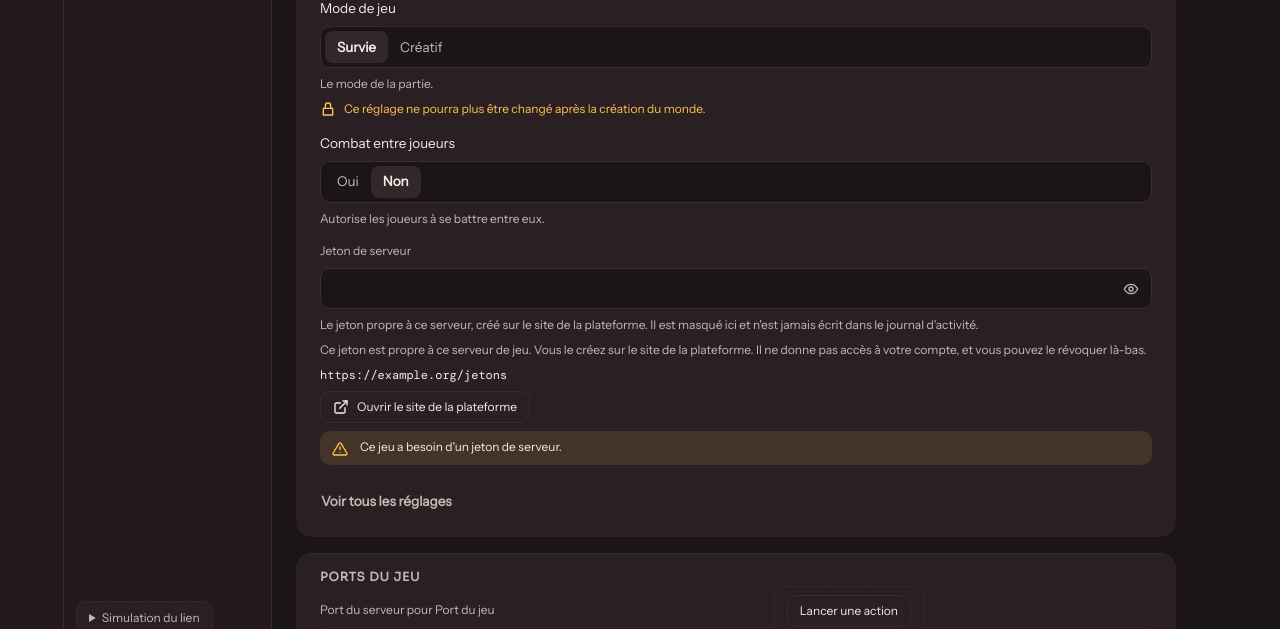
Scenario: l'étape « Ressources » (BR-FICHE-020 à 023, BR-RES-037) › dit en chiffres ce qui reste de mémoire quand la machine est assez grande mais déjà engagée
(page scrolled)
Type "jeton-du-serveur" into the password field labelled "Jeton de serveur" at (716, 289), box [321,269,1111,308]
Wait 450 ms
(page scrolled)
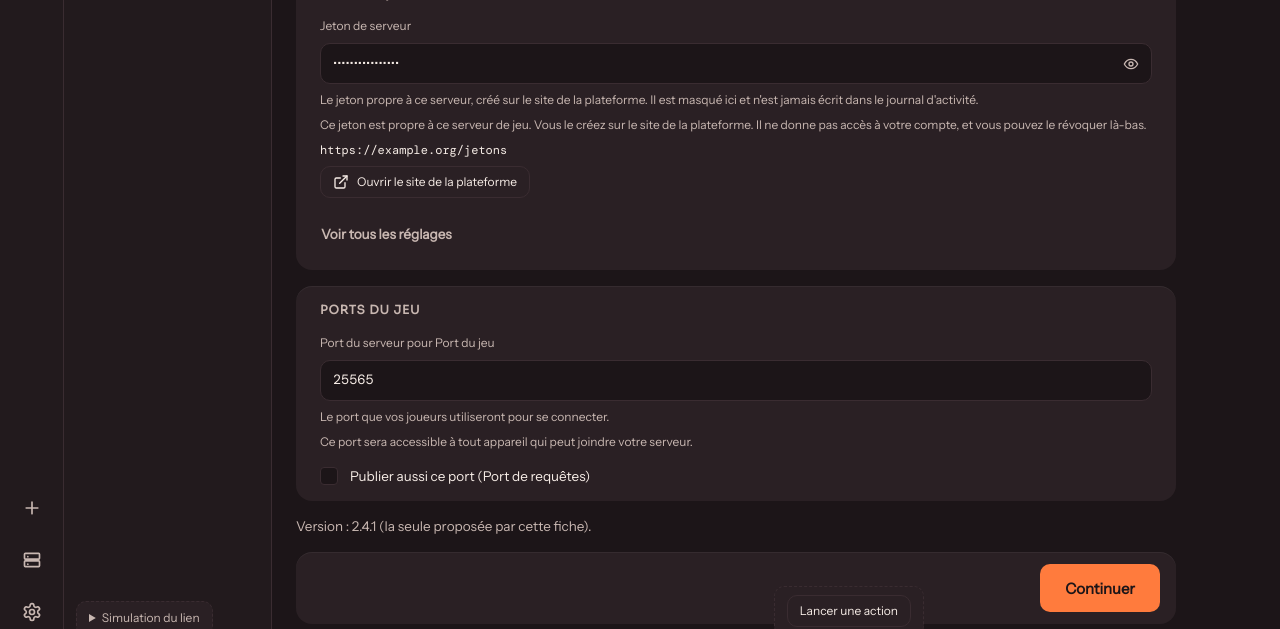
Click the button "Continuer" at (1100, 588), box [1040,564,1160,612]
Wait 450 ms
(page scrolled)
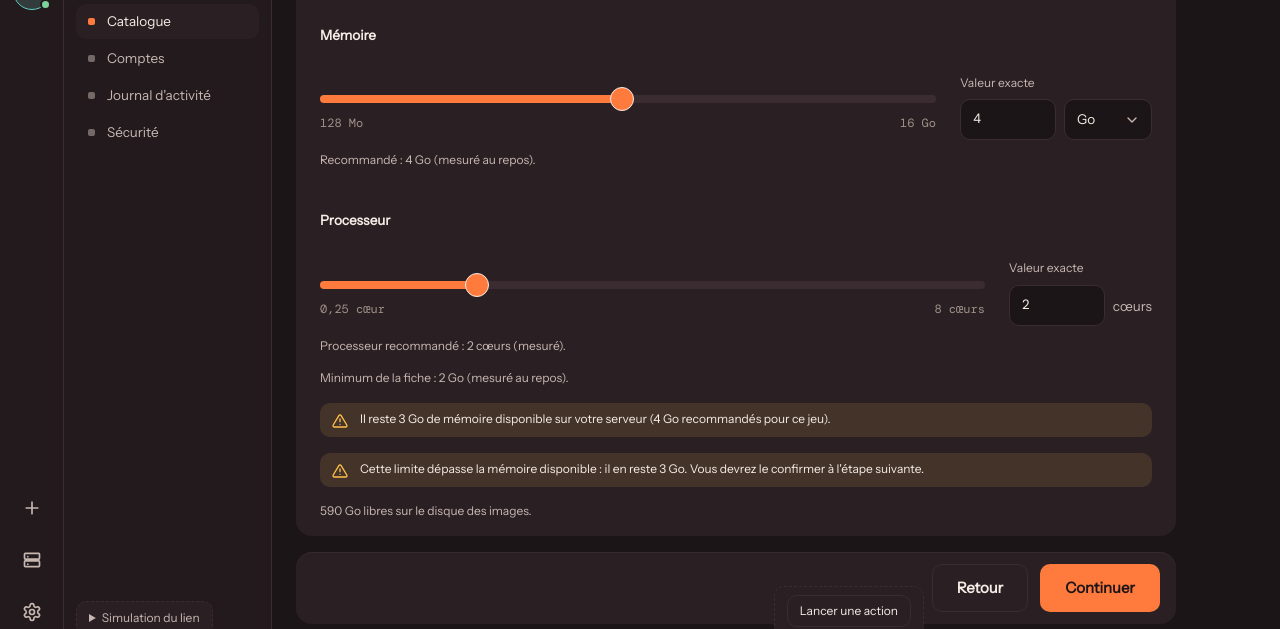
Expected: the 1st message shows "Il reste 3 Go de mémoire disponible sur votre serveur (4 Go recommandés pour ce jeu).", [360,411,830,426]
Expected: the 2nd message shows "il en reste 3 Go", [360,461,924,476]
